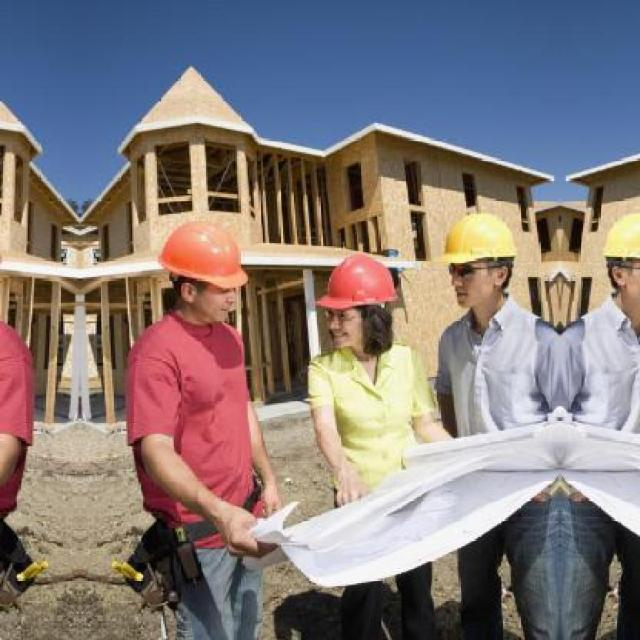helmet: (310, 252, 401, 354), (157, 216, 243, 319), (431, 214, 517, 308), (600, 214, 638, 309)
